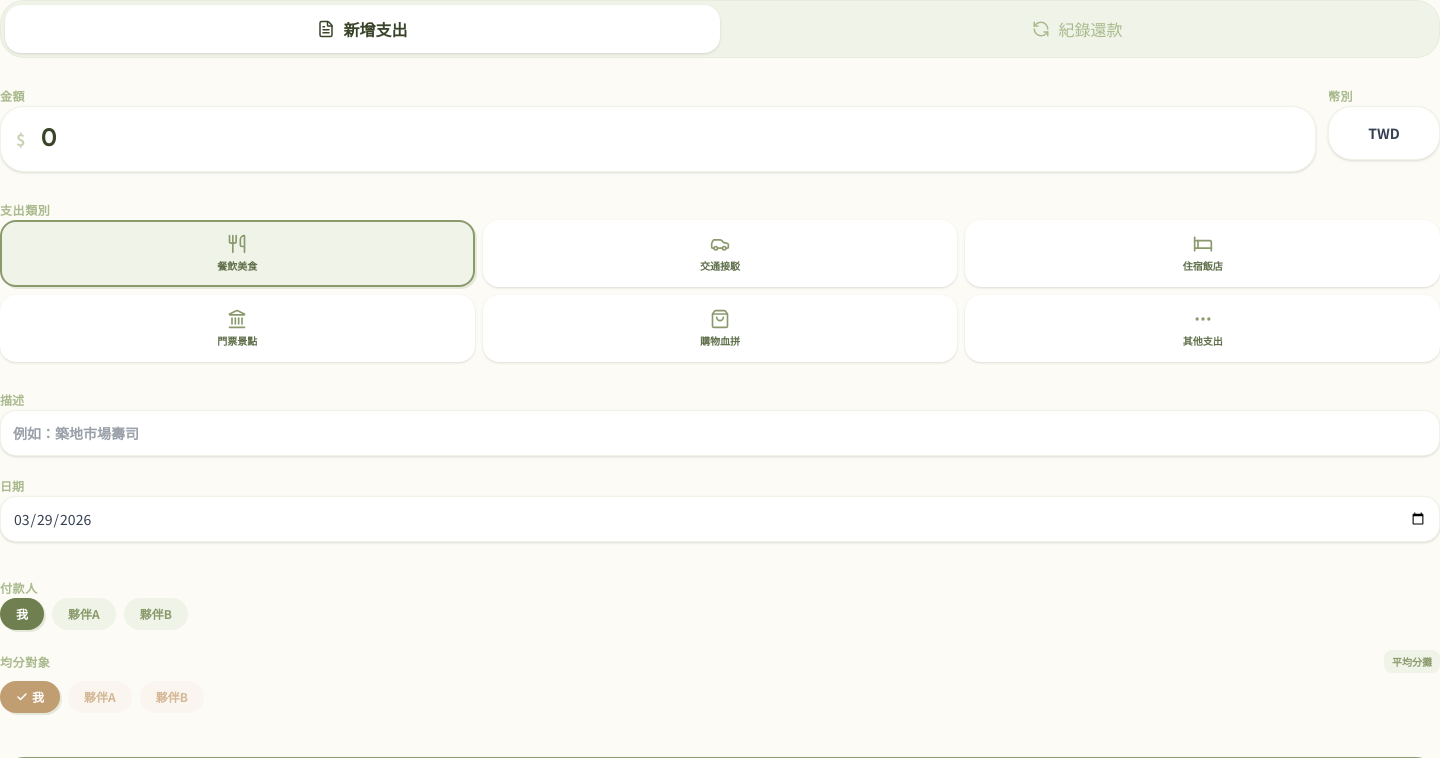
it: ExpenseForm.vue › 切換至還款模式時應更新 UI
Click the button "紀錄還款" at (1078, 29), box [720,5,1435,53]
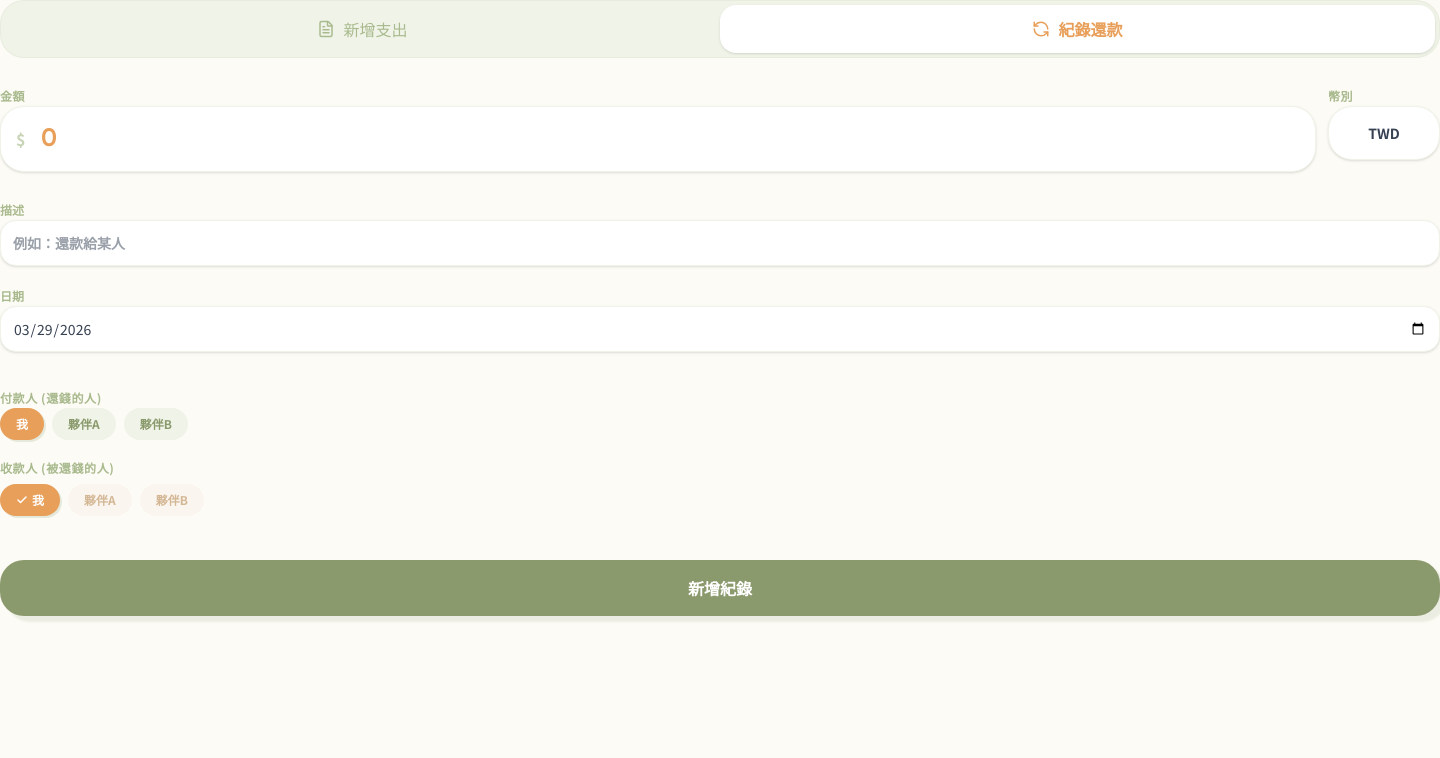
Result: the text "付款人 (還錢的人)" is shown at [0,389,102,406]
Result: the text "收款人 (被還錢的人)" is shown at [0,460,114,476]
